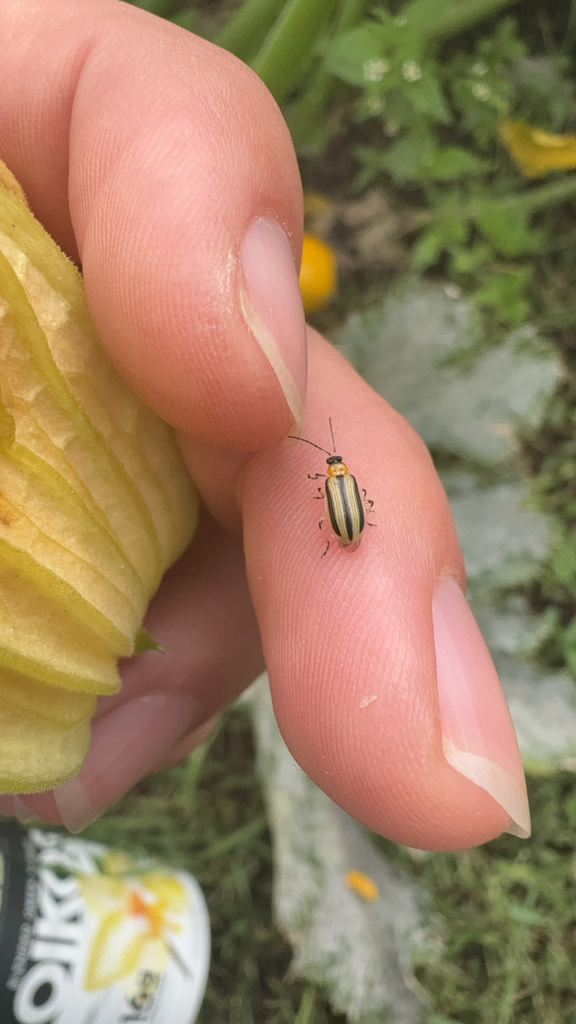potato_beetle: (256, 381, 415, 598)
